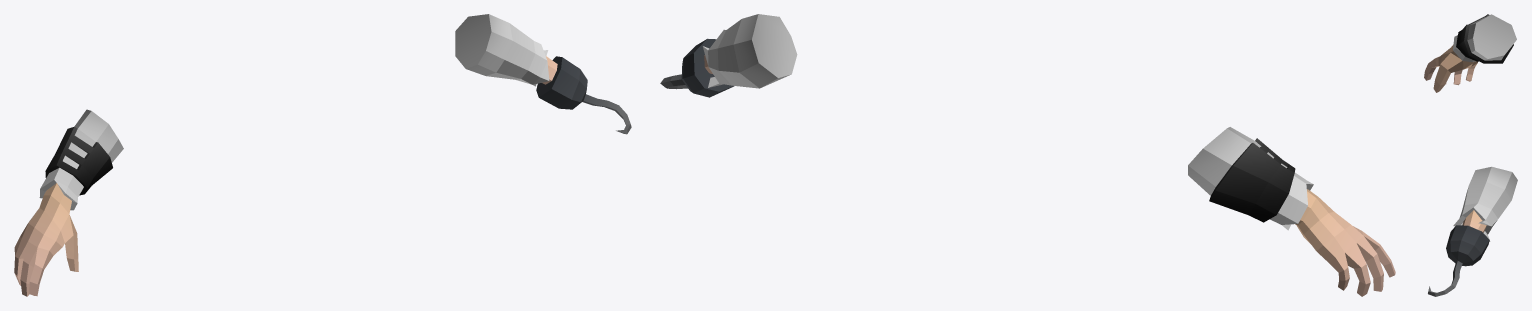
File: handsFinal.fbx
The picture shows the model from 3 angles, left to right: view 1: azimuth 30°, elevation 25°; view 2: azimuth 150°, elevation 25°; view 3: azimuth 270°, elevation 25°; orthographic projection. The views are drawn at different scales.
Parts seen in each view (by area): view 1: hand_w_FA, hook_w_FA; view 2: hand_w_FA, hook_w_FA; view 3: hook_w_FA, hand_w_FA.
Boxes of the visible parts, left/top/right/bottom form: hand_w_FA: left=14, top=109, right=123, bottom=296; hook_w_FA: left=455, top=14, right=631, bottom=134; hand_w_FA: left=1188, top=127, right=1395, bottom=296; hook_w_FA: left=660, top=14, right=797, bottom=97; hook_w_FA: left=1428, top=166, right=1517, bottom=296; hand_w_FA: left=1424, top=14, right=1516, bottom=92.
Size of the model in its own units: 139 by 29.84 by 23.55.
